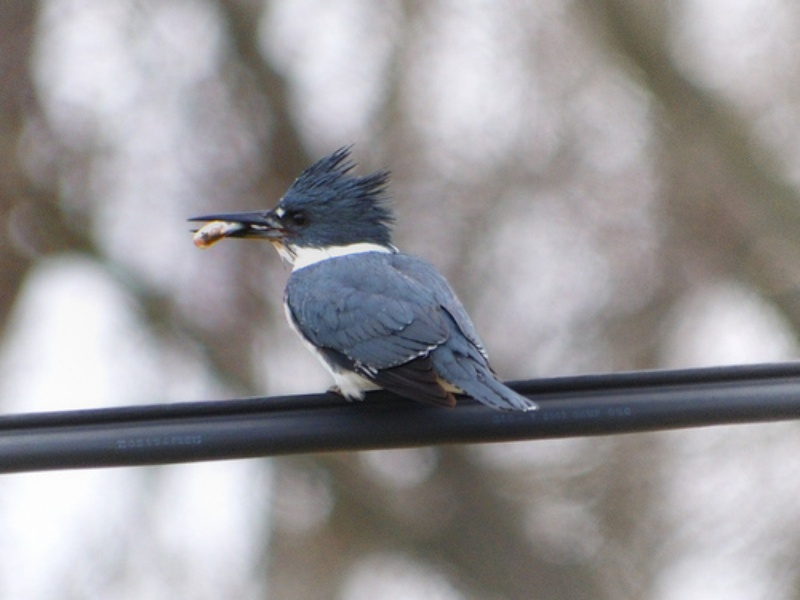kingfisher: (184, 141, 549, 423)
